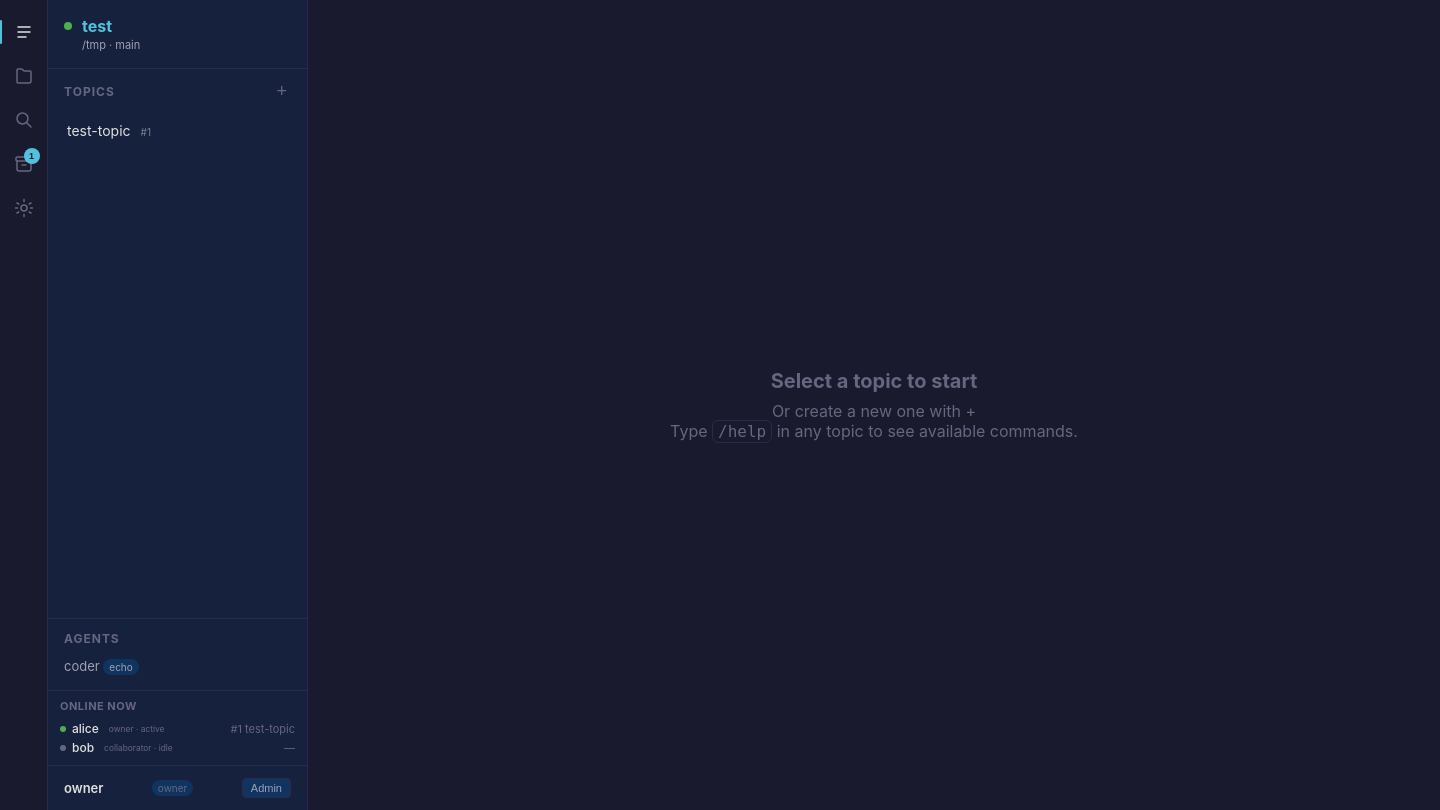
Scenario: Human input cards › does not render answered checkpoints from topic history as active cards
Expected: the heading "Select a topic to start" is shown, [771,369,977,393]
What coordinates should you click on to do the following:
click the list item "test-topic"
I would click on:
 (109, 130)
Its box is [67,122,151,139].
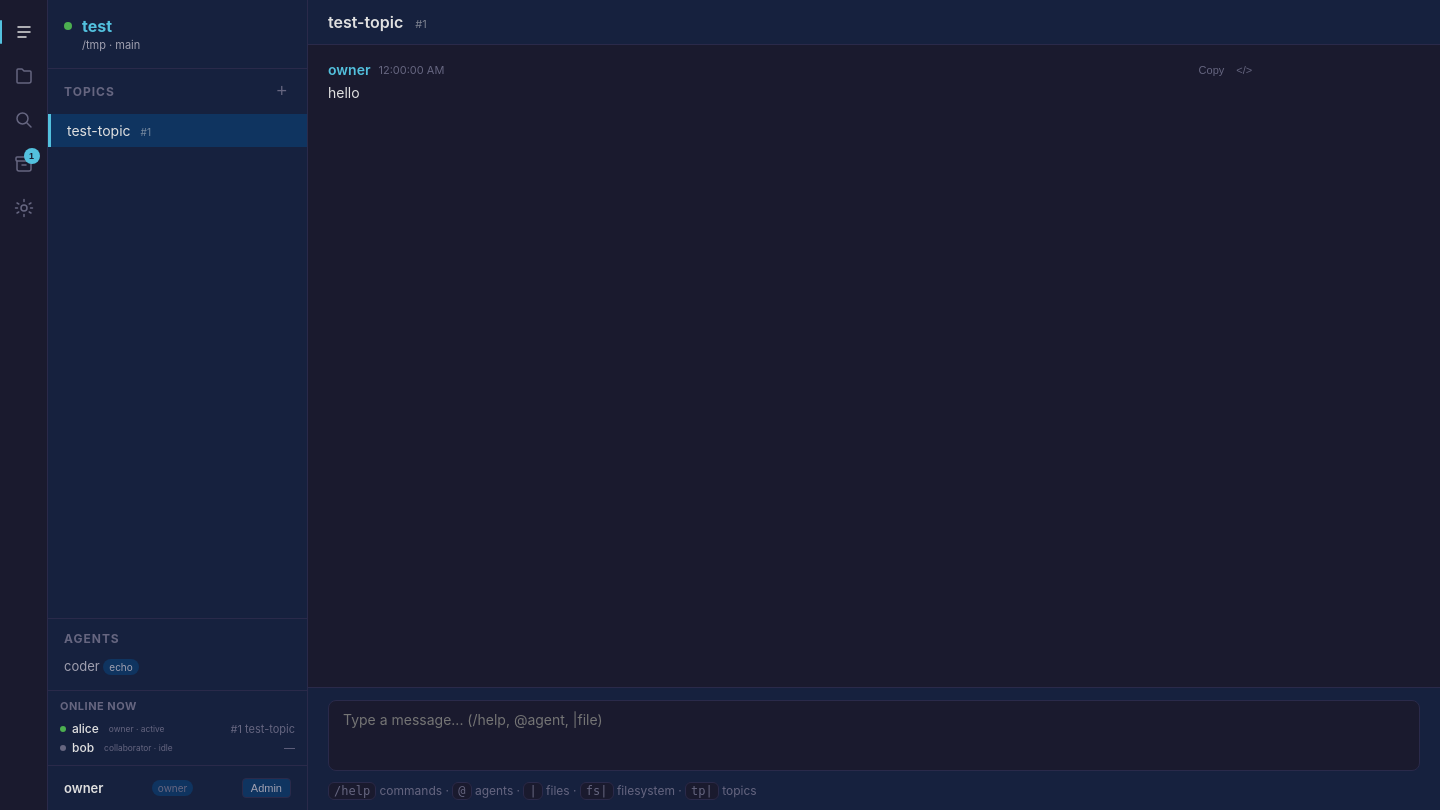
Expected: the text box with placeholder "Type a message... (/help, @agent, |file)" is shown, [328,700,1420,771]
